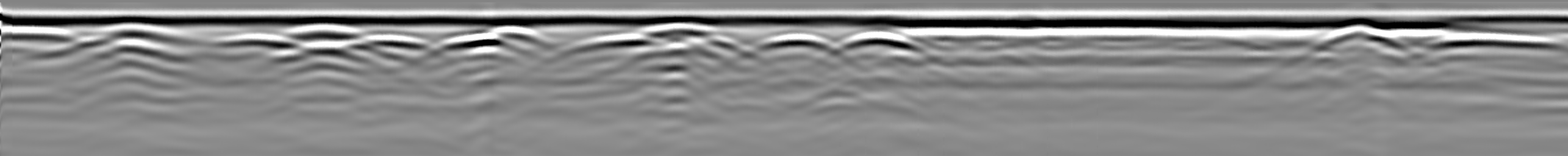pipe: (1321, 16, 1398, 44), (636, 15, 726, 37), (281, 16, 368, 38), (95, 14, 176, 36), (486, 16, 541, 40)
steel: (1429, 32, 1561, 52), (835, 29, 922, 54), (754, 31, 837, 52), (209, 33, 297, 49), (352, 33, 430, 48), (437, 35, 513, 49)
